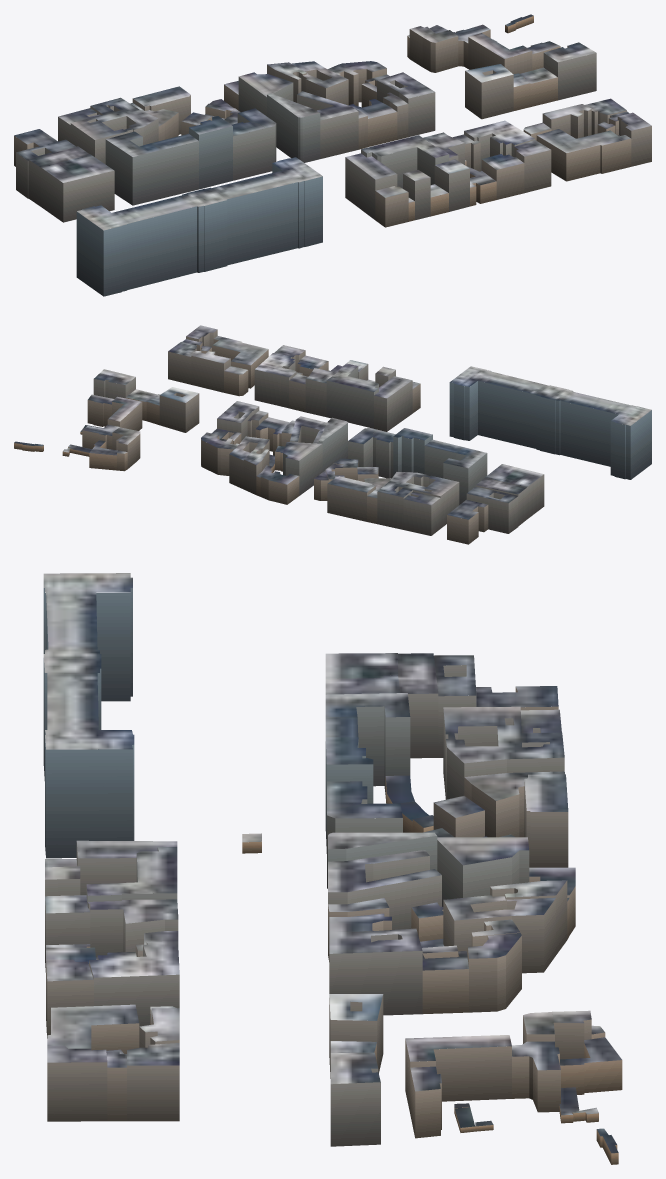
The picture shows the model from 3 angles, top to bottom: view 1: azimuth 30°, elevation 25°; view 2: azimuth 150°, elevation 25°; view 3: azimuth 270°, elevation 25°; orthographic projection. The views are drawn at different scales.
Size of the model in its own units: 372 by 38.87 by 188.
Materials: 2 (2 with a texture image).
